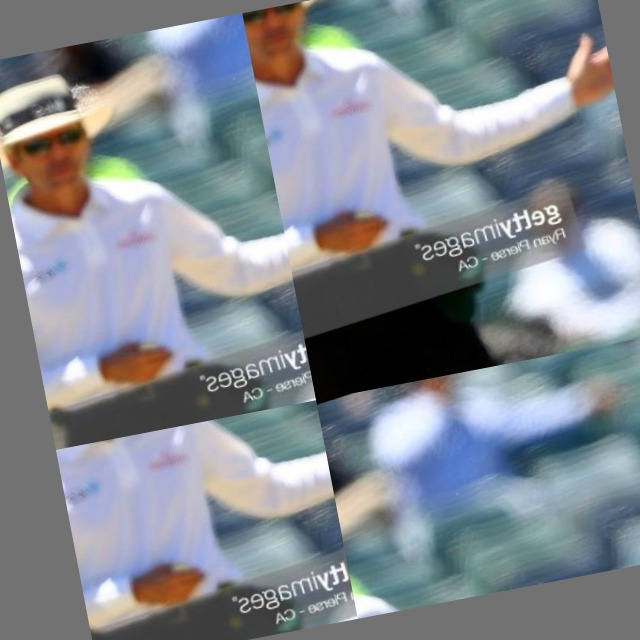No_Action: (242, 0, 414, 400)
No_Ball: (99, 13, 316, 428), (321, 363, 640, 619), (130, 400, 358, 640)
